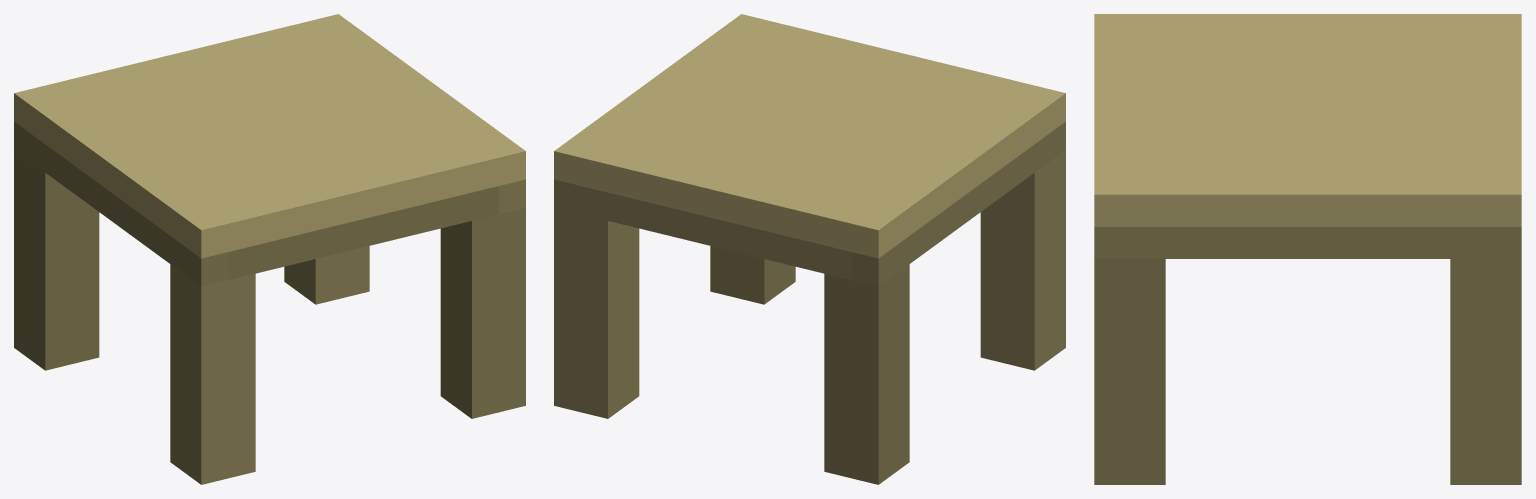
File: mesa_engarce_desgastada_01.glb
3 renders of one model, left to right at view 1: azimuth 30°, elevation 25°; view 2: azimuth 150°, elevation 25°; view 3: azimuth 270°, elevation 25°, orthographic. The views are drawn at different scales.
Visible parts, largest first — view 1: mesa_engarce_desgastada; view 2: mesa_engarce_desgastada; view 3: mesa_engarce_desgastada.
Part boxes in pixels (bbox=[...]): mesa_engarce_desgastada: bbox=[14, 14, 525, 484]; mesa_engarce_desgastada: bbox=[554, 14, 1065, 484]; mesa_engarce_desgastada: bbox=[1094, 14, 1521, 484].
Size of the model in its own units: 1 by 0.75 by 1.
